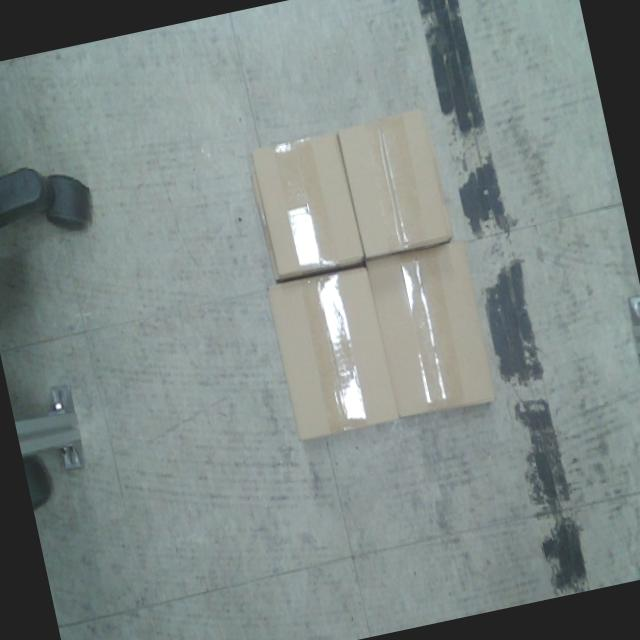box: (263, 264, 401, 444), (365, 242, 499, 423), (337, 108, 458, 264), (246, 130, 366, 281)
